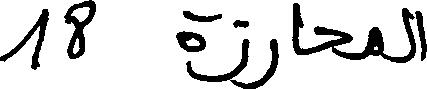X: (0, 4, 46, 74), (219, 9, 249, 88), (176, 6, 204, 85), (61, 0, 93, 63), (316, 21, 350, 64), (256, 34, 276, 88), (401, 3, 414, 67), (416, 6, 426, 65), (367, 22, 381, 61), (293, 0, 299, 88)
